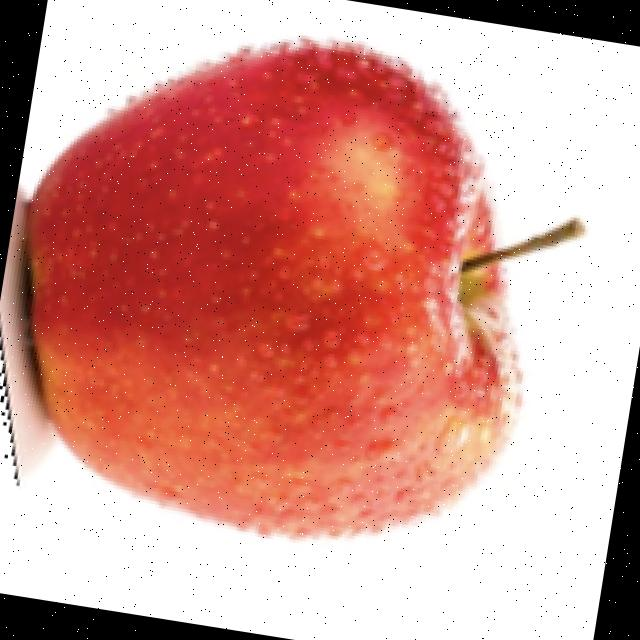apple: (0, 31, 591, 544)
